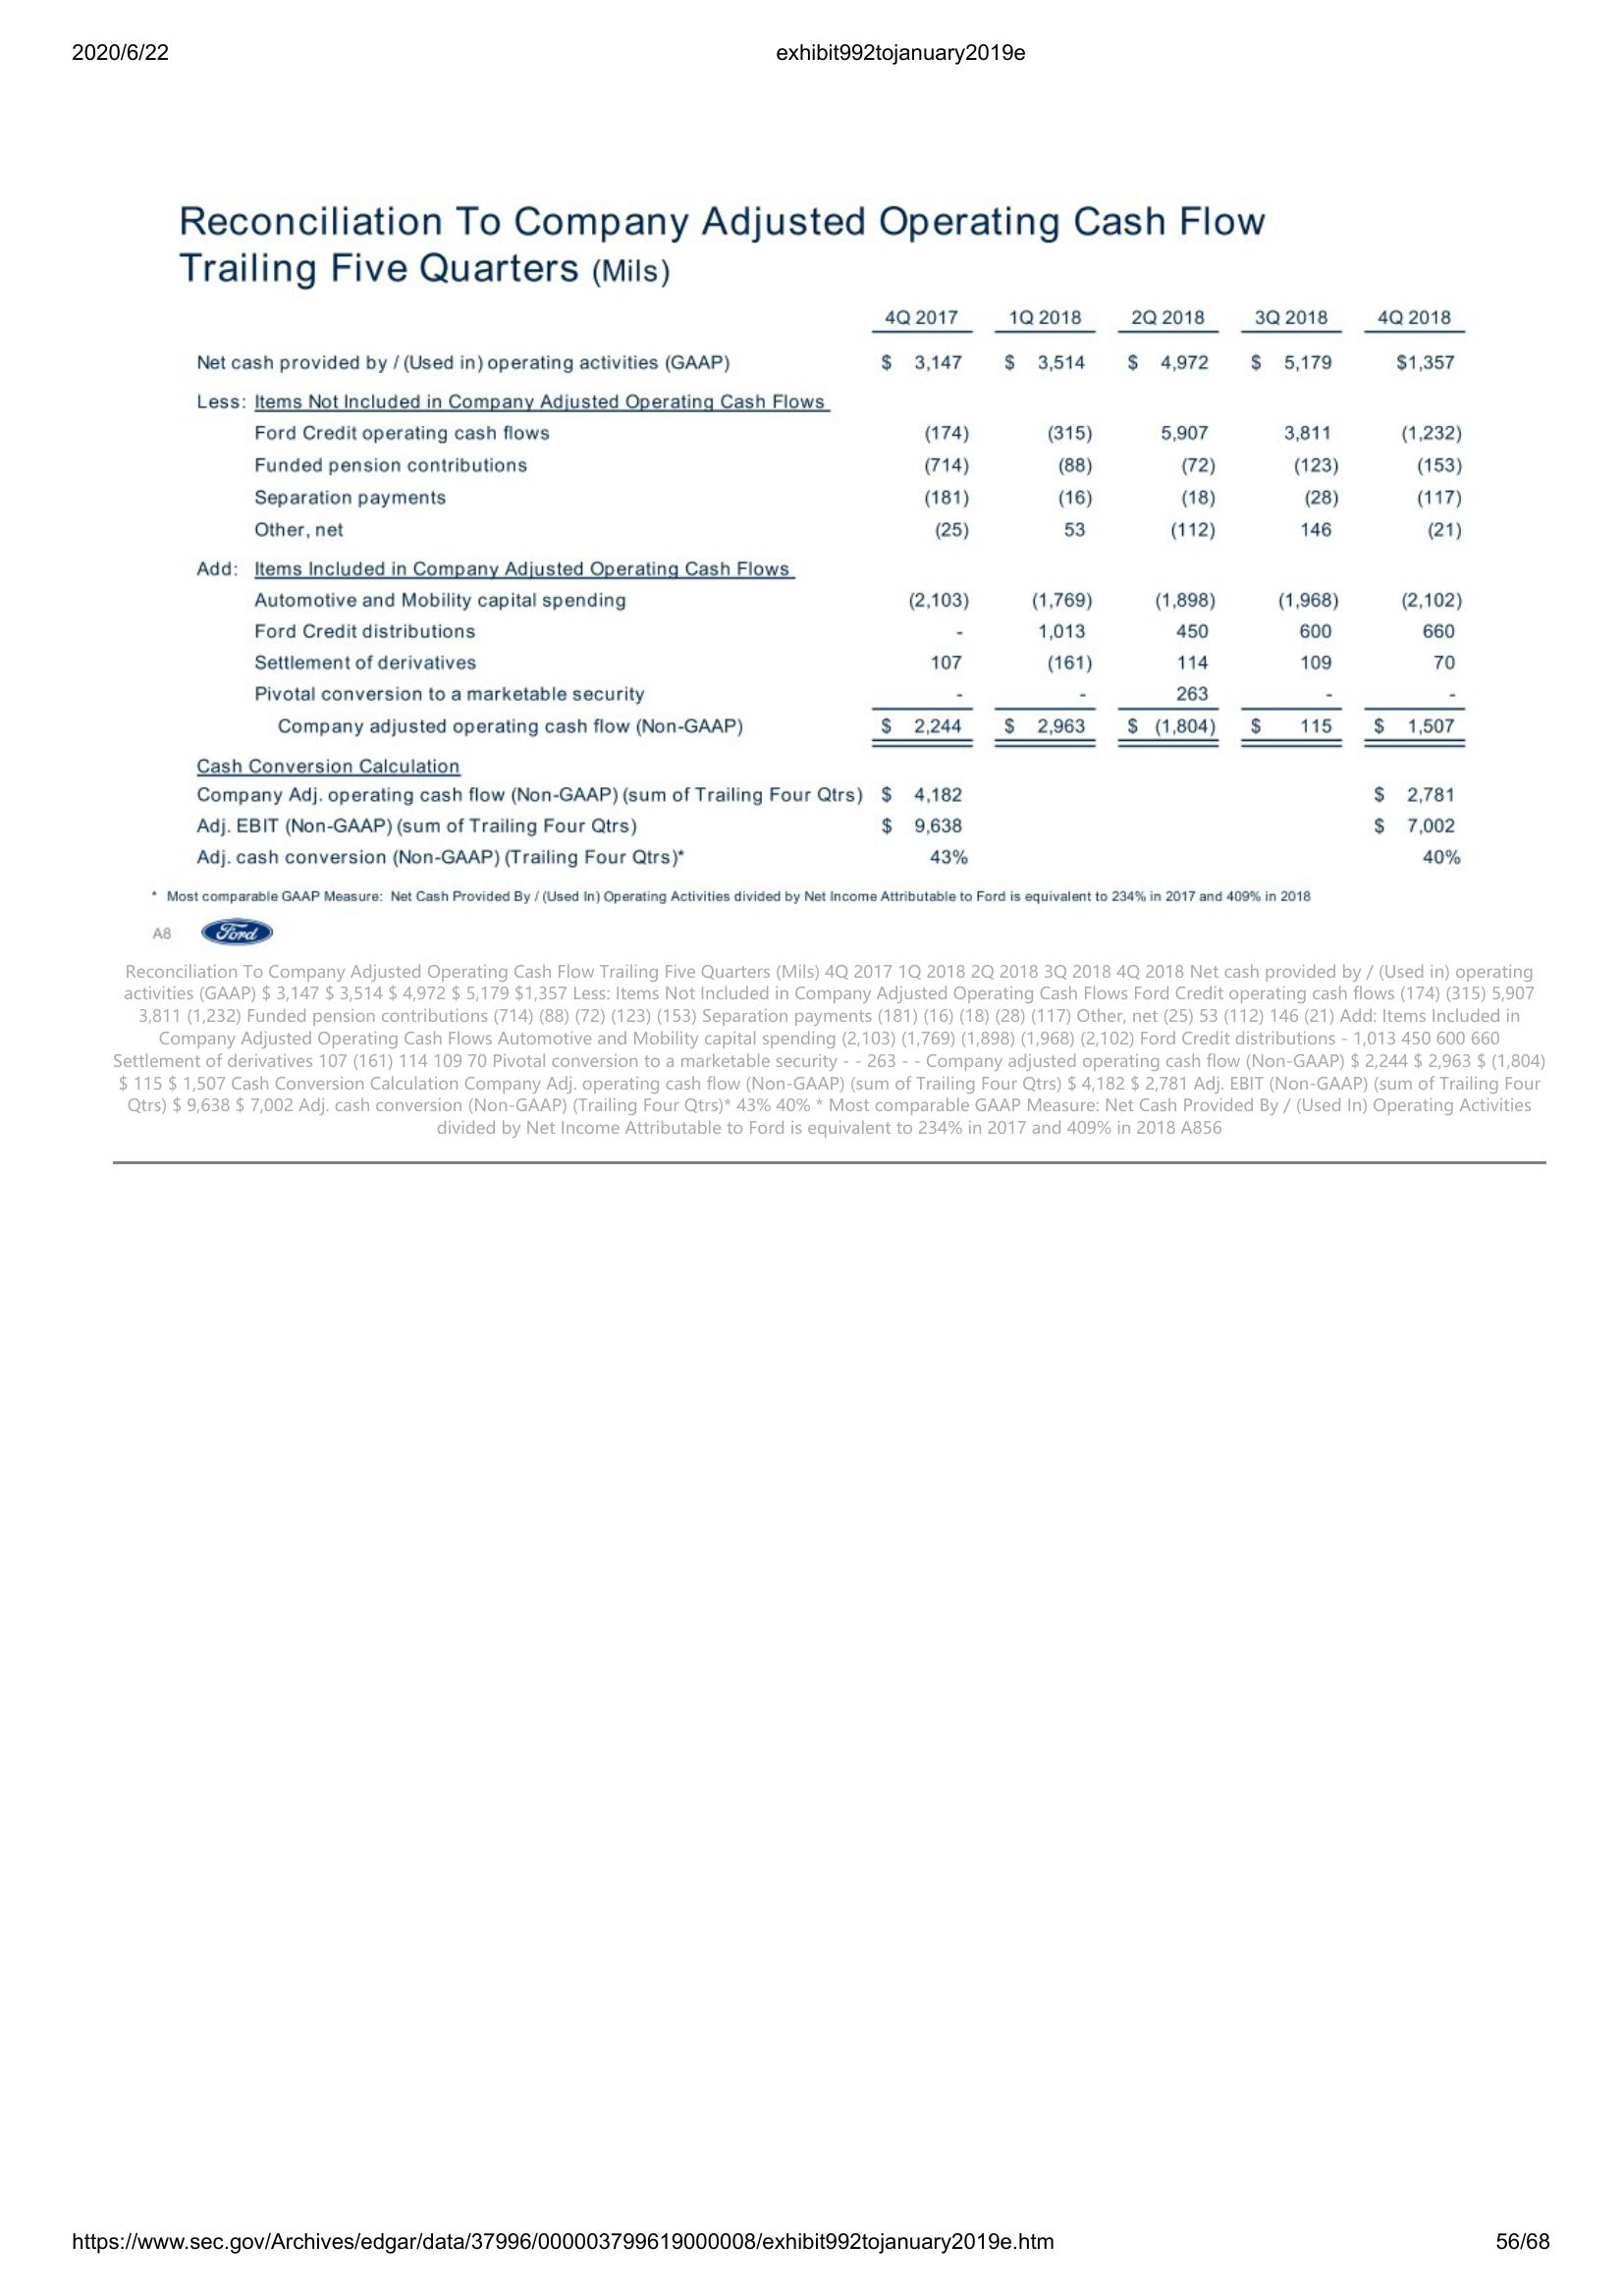table: (188, 288, 1481, 872)
